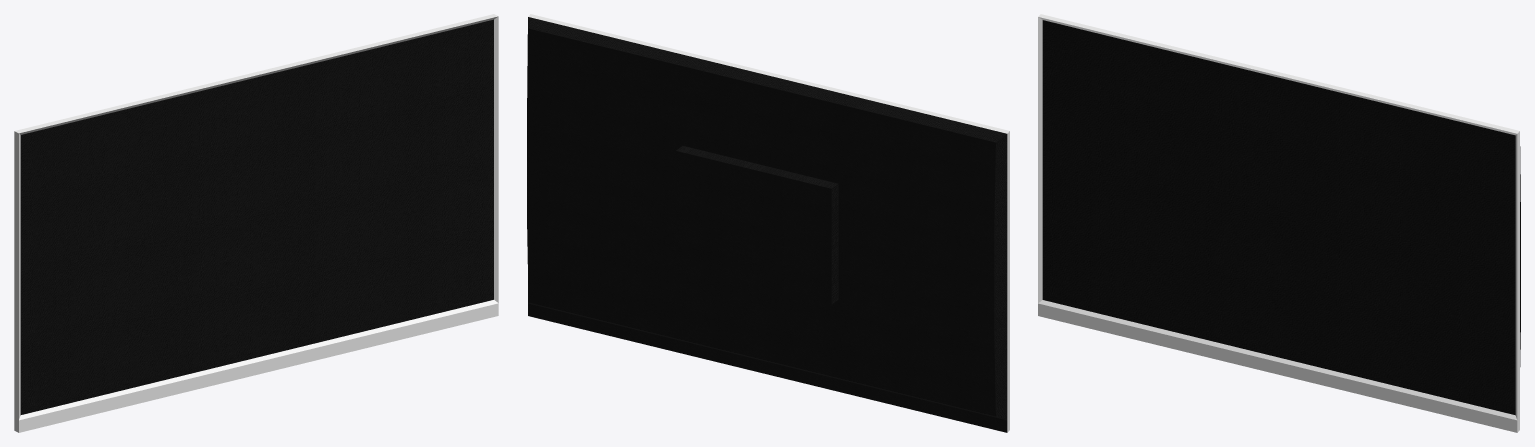
File: Television.FBX
The picture shows the model from 3 angles, left to right: view 1: azimuth 30°, elevation 25°; view 2: azimuth 150°, elevation 25°; view 3: azimuth 330°, elevation 25°; orthographic projection.
Parts seen in each view (by area): view 1: TV; view 2: TV; view 3: TV.
Part boxes in pixels (x1=…): TV: x1=14, y1=14, x2=498, y2=432; TV: x1=527, y1=14, x2=1009, y2=432; TV: x1=1038, y1=14, x2=1520, y2=432.
Size of the model in its own units: 80.41 by 47.86 by 4.77.
